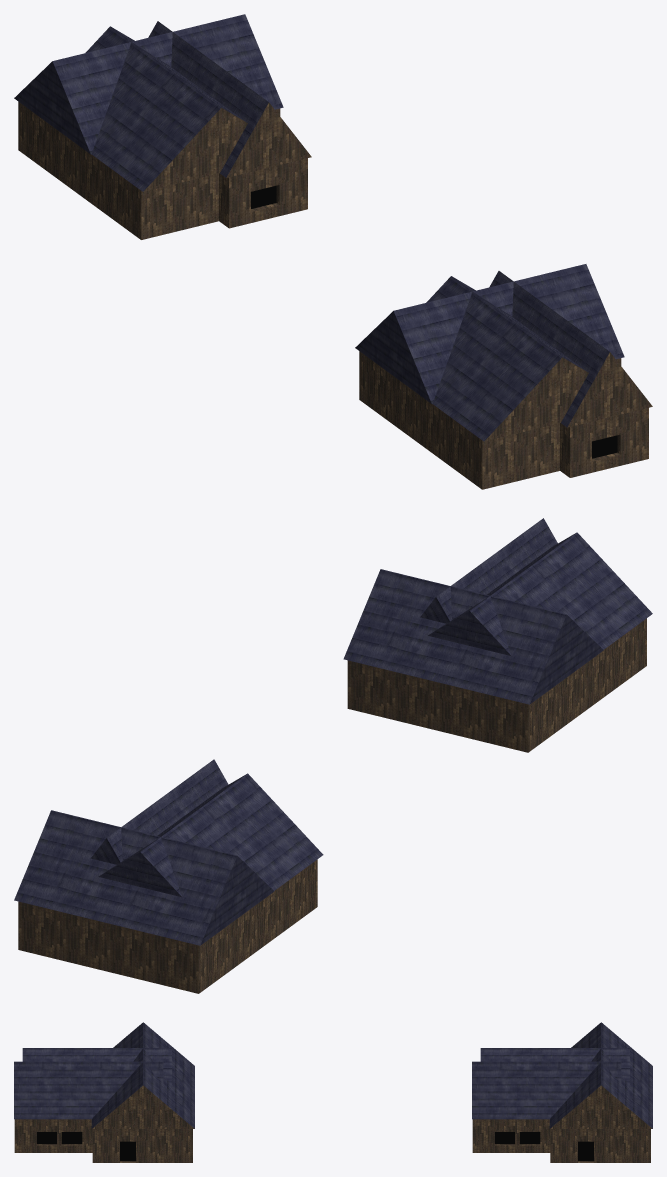
File: Neighbor Houses.fbx
The picture shows the model from 3 angles, top to bottom: view 1: azimuth 30°, elevation 25°; view 2: azimuth 150°, elevation 25°; view 3: azimuth 270°, elevation 25°; orthographic projection. The views are drawn at different scales.
Visible parts, largest first — view 1: Exterior Other House, Exterior Al House; view 2: Exterior Al House, Exterior Other House; view 3: Exterior Other House, Exterior Al House.
Boxes of the visible parts, left/top/right/bottom form: Exterior Other House: left=355, top=264, right=652, bottom=489; Exterior Al House: left=14, top=14, right=311, bottom=239; Exterior Al House: left=14, top=759, right=323, bottom=993; Exterior Other House: left=343, top=518, right=652, bottom=752; Exterior Other House: left=14, top=1022, right=194, bottom=1162; Exterior Al House: left=472, top=1022, right=652, bottom=1162.
Bounding box in the file's own units: 1359 × 787 × 5810.
